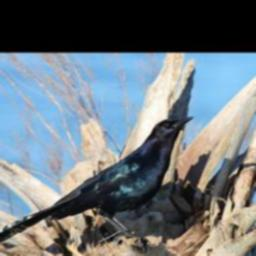Crow: (0, 116, 195, 253)
